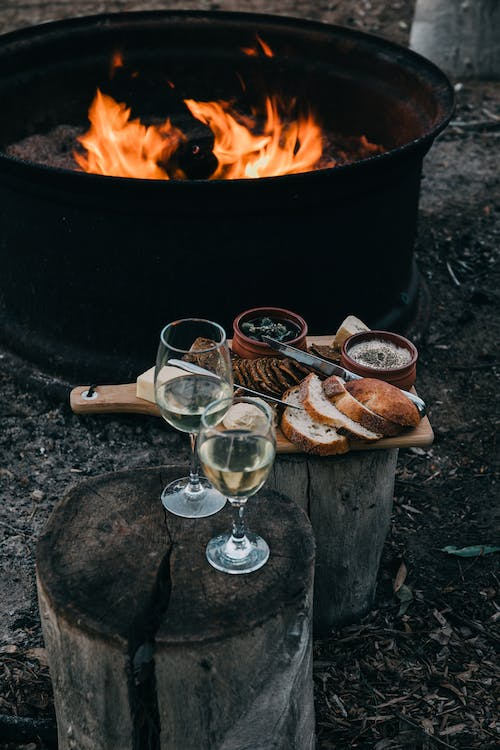alcohol: (152, 316, 235, 521), (203, 395, 278, 575)
knife: (261, 333, 430, 419), (164, 356, 307, 415)
